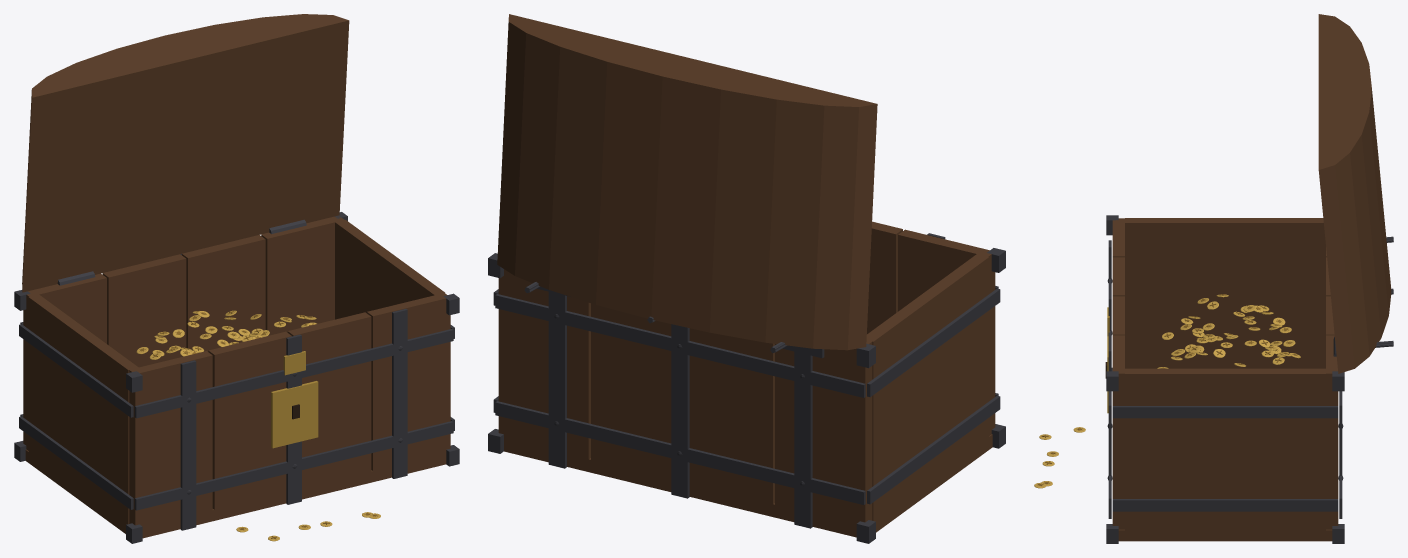
Rendered from TreasureChest.glb.
The picture shows the model from 3 angles, left to right: view 1: azimuth 30°, elevation 25°; view 2: azimuth 150°, elevation 25°; view 3: azimuth 270°, elevation 25°; orthographic projection. The views are drawn at different scales.
Visible parts, largest first — view 1: ChestLidBoards, EndPlank, FrontPlank.001, FrontPlank, FrontPlank.003, FrontPlank.002, BackPlank.002, BackPlank.001, BackPlank.003, EndPlank.001, IronBand.001, IronBand (+8 smaller); view 2: ChestLidBoards, EndPlank, BackPlank.001, BackPlank, BackPlank.002, BackPlank.003, FloorPlank, IronBand.003, IronBand.002, FrontPlank, IronStrap.005, IronStrap.004 (+4 smaller); view 3: EndPlank.001, EndPlank, ChestLidBoards, IronBandEnd.002, IronBandEnd.003, FrontPlank.003, BackPlank.003, FloorPlank, FrontPlank.001, FrontPlank.002, FrontPlank.
Part boxes in pixels (box(x1,y1,x2,y2)): ChestLidBoards: box(22, 14, 349, 292); EndPlank: box(28, 294, 138, 533); FrontPlank.001: box(208, 331, 291, 509); FrontPlank: box(129, 351, 212, 527); FrontPlank.003: box(367, 293, 450, 470); FrontPlank.002: box(287, 312, 371, 488); BackPlank.002: box(182, 235, 265, 351); BackPlank.001: box(102, 254, 186, 367); BackPlank.003: box(261, 216, 344, 335); EndPlank.001: box(335, 220, 444, 319); IronBand.001: box(134, 329, 453, 418); IronBand: box(134, 421, 453, 510); ChestLidBoards: box(497, 14, 877, 350); EndPlank: box(866, 254, 989, 520); BackPlank.001: box(689, 328, 774, 516); BackPlank: box(775, 340, 872, 524); BackPlank.002: box(591, 303, 671, 479); BackPlank.003: box(498, 269, 590, 470); FloorPlank: box(504, 434, 992, 537); IronBand.003: box(495, 294, 865, 397); IronBand.002: box(495, 401, 865, 504); FrontPlank: box(898, 229, 995, 435); IronStrap.005: box(548, 291, 566, 468); IronStrap.004: box(671, 324, 689, 498); EndPlank.001: box(1125, 368, 1325, 541); EndPlank: box(1125, 218, 1325, 368); ChestLidBoards: box(1318, 14, 1391, 373); IronBandEnd.002: box(1112, 499, 1338, 511); IronBandEnd.003: box(1112, 406, 1338, 418); FrontPlank.003: box(1112, 335, 1124, 529); BackPlank.003: box(1326, 335, 1338, 529); FloorPlank: box(1118, 529, 1332, 541); FrontPlank.001: box(1112, 257, 1124, 296); FrontPlank.002: box(1112, 296, 1124, 335); FrontPlank: box(1112, 218, 1124, 257).
Size of the model in its own units: 0.93 by 1.01 by 0.8762.
